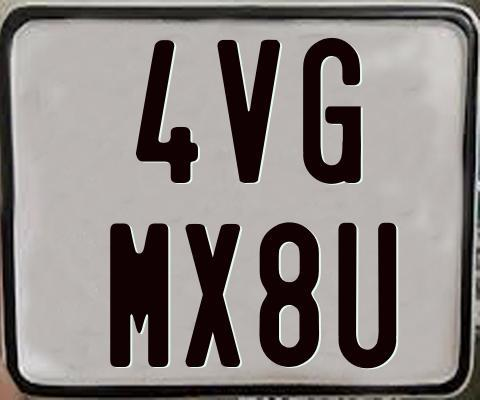4: (135, 39, 201, 182)
8: (259, 222, 321, 370)
G: (301, 37, 362, 187)
M: (108, 220, 172, 370)
U: (337, 221, 397, 368)
V: (214, 40, 278, 186)
X: (183, 222, 238, 367)
